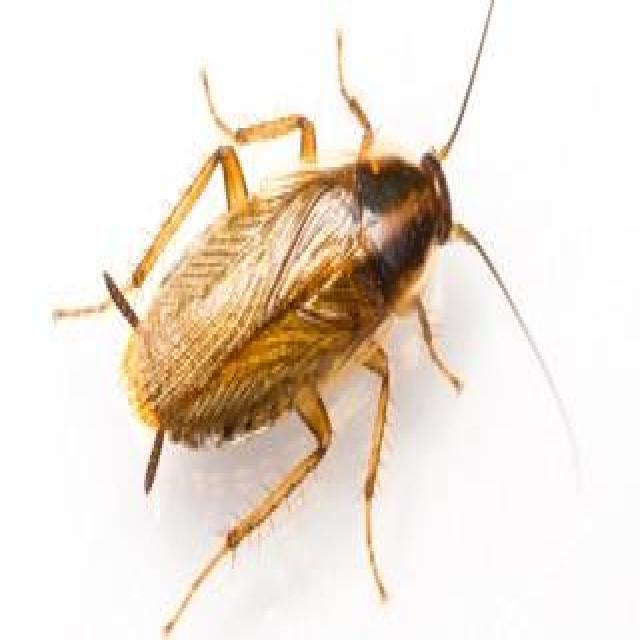Cockroach: (64, 50, 494, 608)
